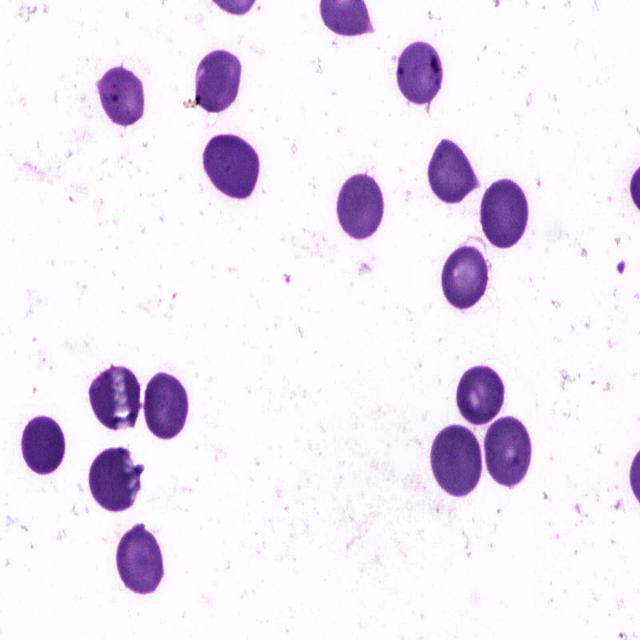red blood cell: (200, 133, 265, 204), (478, 174, 532, 253), (482, 413, 534, 493), (334, 168, 388, 243), (140, 367, 192, 444), (114, 524, 168, 598), (426, 137, 481, 209), (86, 444, 144, 511), (430, 422, 483, 494), (439, 240, 490, 314), (192, 45, 244, 117), (395, 38, 446, 109), (94, 65, 148, 131), (87, 366, 140, 431), (18, 412, 69, 478), (455, 363, 508, 426)
